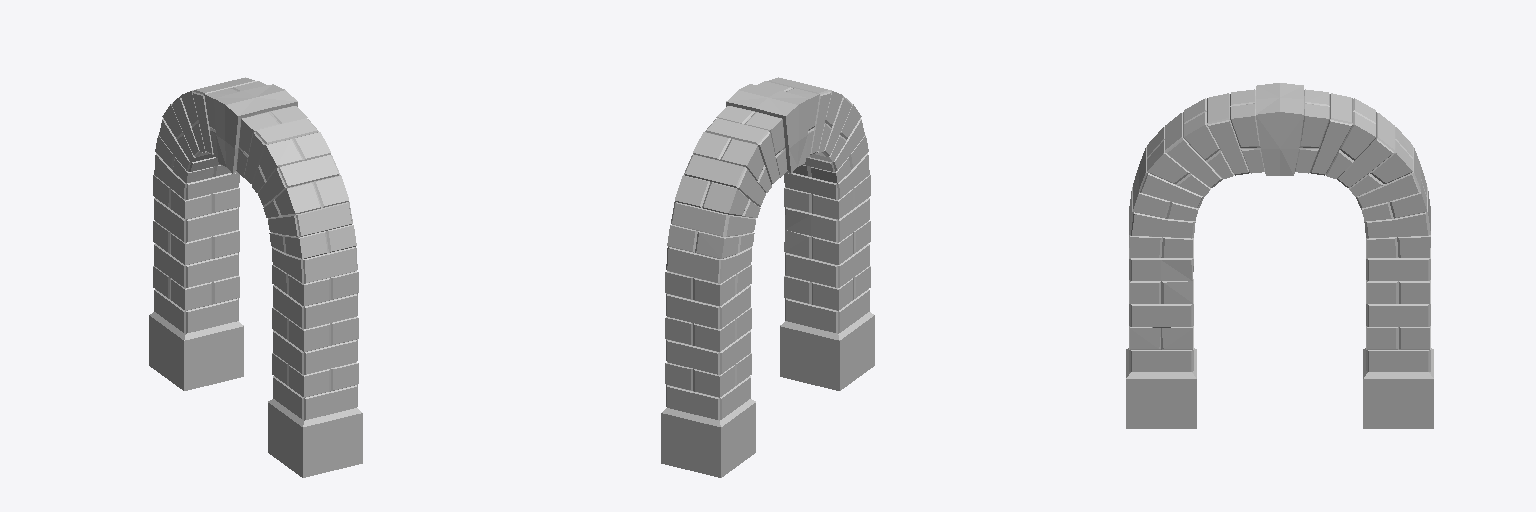
Rendered from ark4.obj.
The picture shows the model from 3 angles: view 1: azimuth 30°, elevation 25°; view 2: azimuth 150°, elevation 25°; view 3: azimuth 270°, elevation 25°; orthographic projection.
Parts seen in each view (by area): view 1: Box001; view 2: Box001; view 3: Box001.
Boxes of the visible parts, x1,y1,x2,y2 form: Box001: [149, 77, 362, 477]; Box001: [661, 77, 874, 477]; Box001: [1126, 83, 1433, 428].
Bounding box in the file's own units: 19.93 × 97.63 × 85.73.